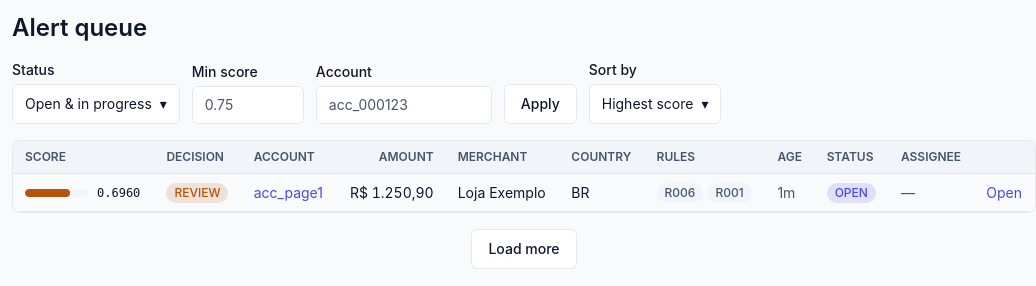
Alert Queue (SPEC §8.2) › renders the table columns and loads more with the cursor
The image size is (1036, 286).
Click the button "Load more": (524, 249) x1=471 y1=229 x2=576 y2=269
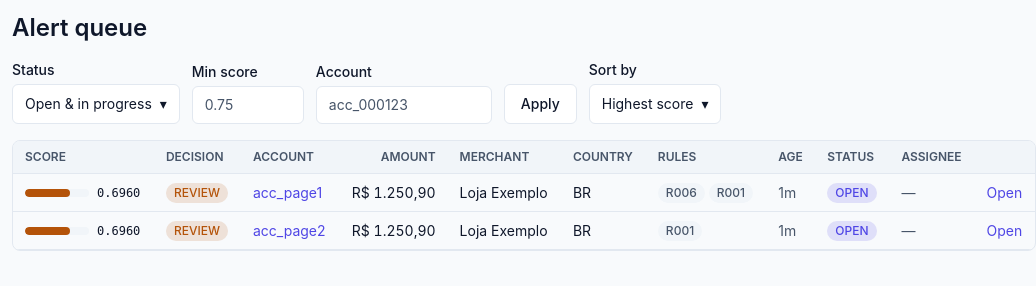
Expected: the link "acc_page2" is shown, x1=253 y1=222 x2=326 y2=238
Expected: the button "Load more" is gone
